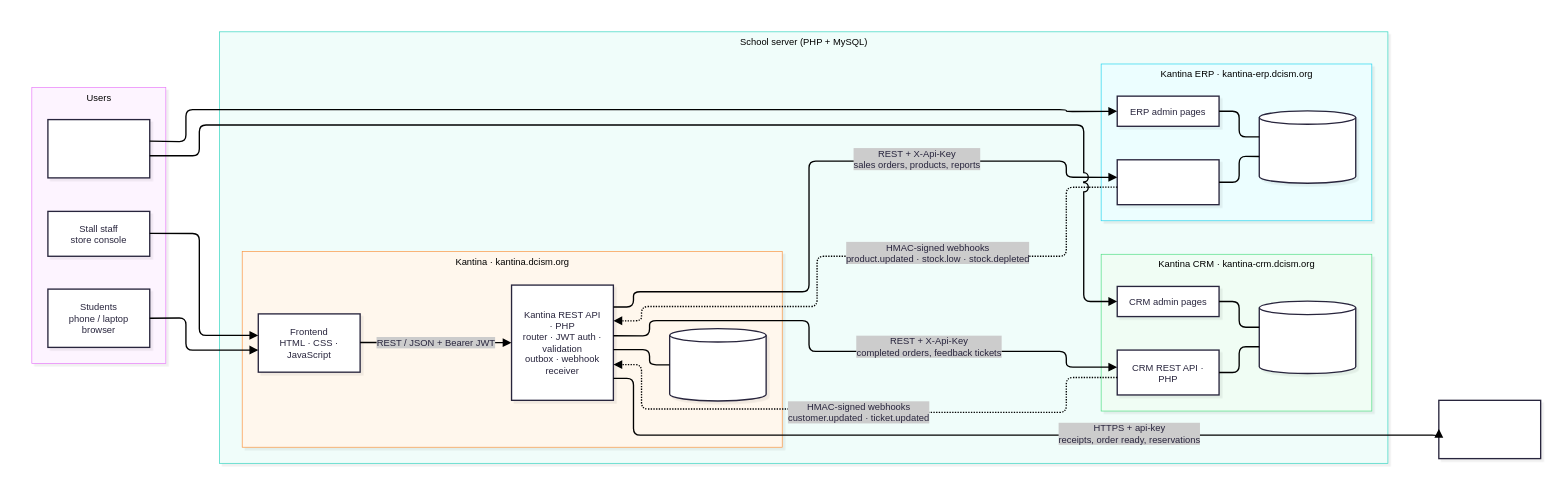
Some shapes in this 1555 by 478 pixel diagram are drawn without their labels. The shapes that lost their labels are listed below. From the top down, each one's centre as x and y in pixels, then its label:
At point 100,150: "Canteen admin ERP + CRM admin pages".
At point 1308,148: "MySQL kantina_erp".
At point 1169,183: "ERP REST API · PHP".
At point 1308,338: "MySQL kantina_crm".
At point 719,366: "MySQL kantina".
At point 1491,430: "Brevo transactional email API".
